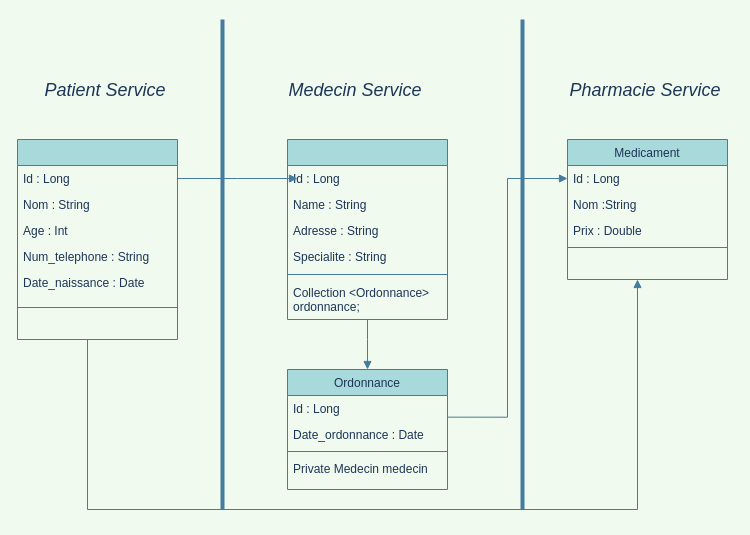
The diagram is 750 pixels wide and 535 high, and some of its shapes have lost their labels. Each missing label, with the box of its shape:
Medecin: (286, 138, 448, 320)
Patient: (16, 138, 178, 340)
